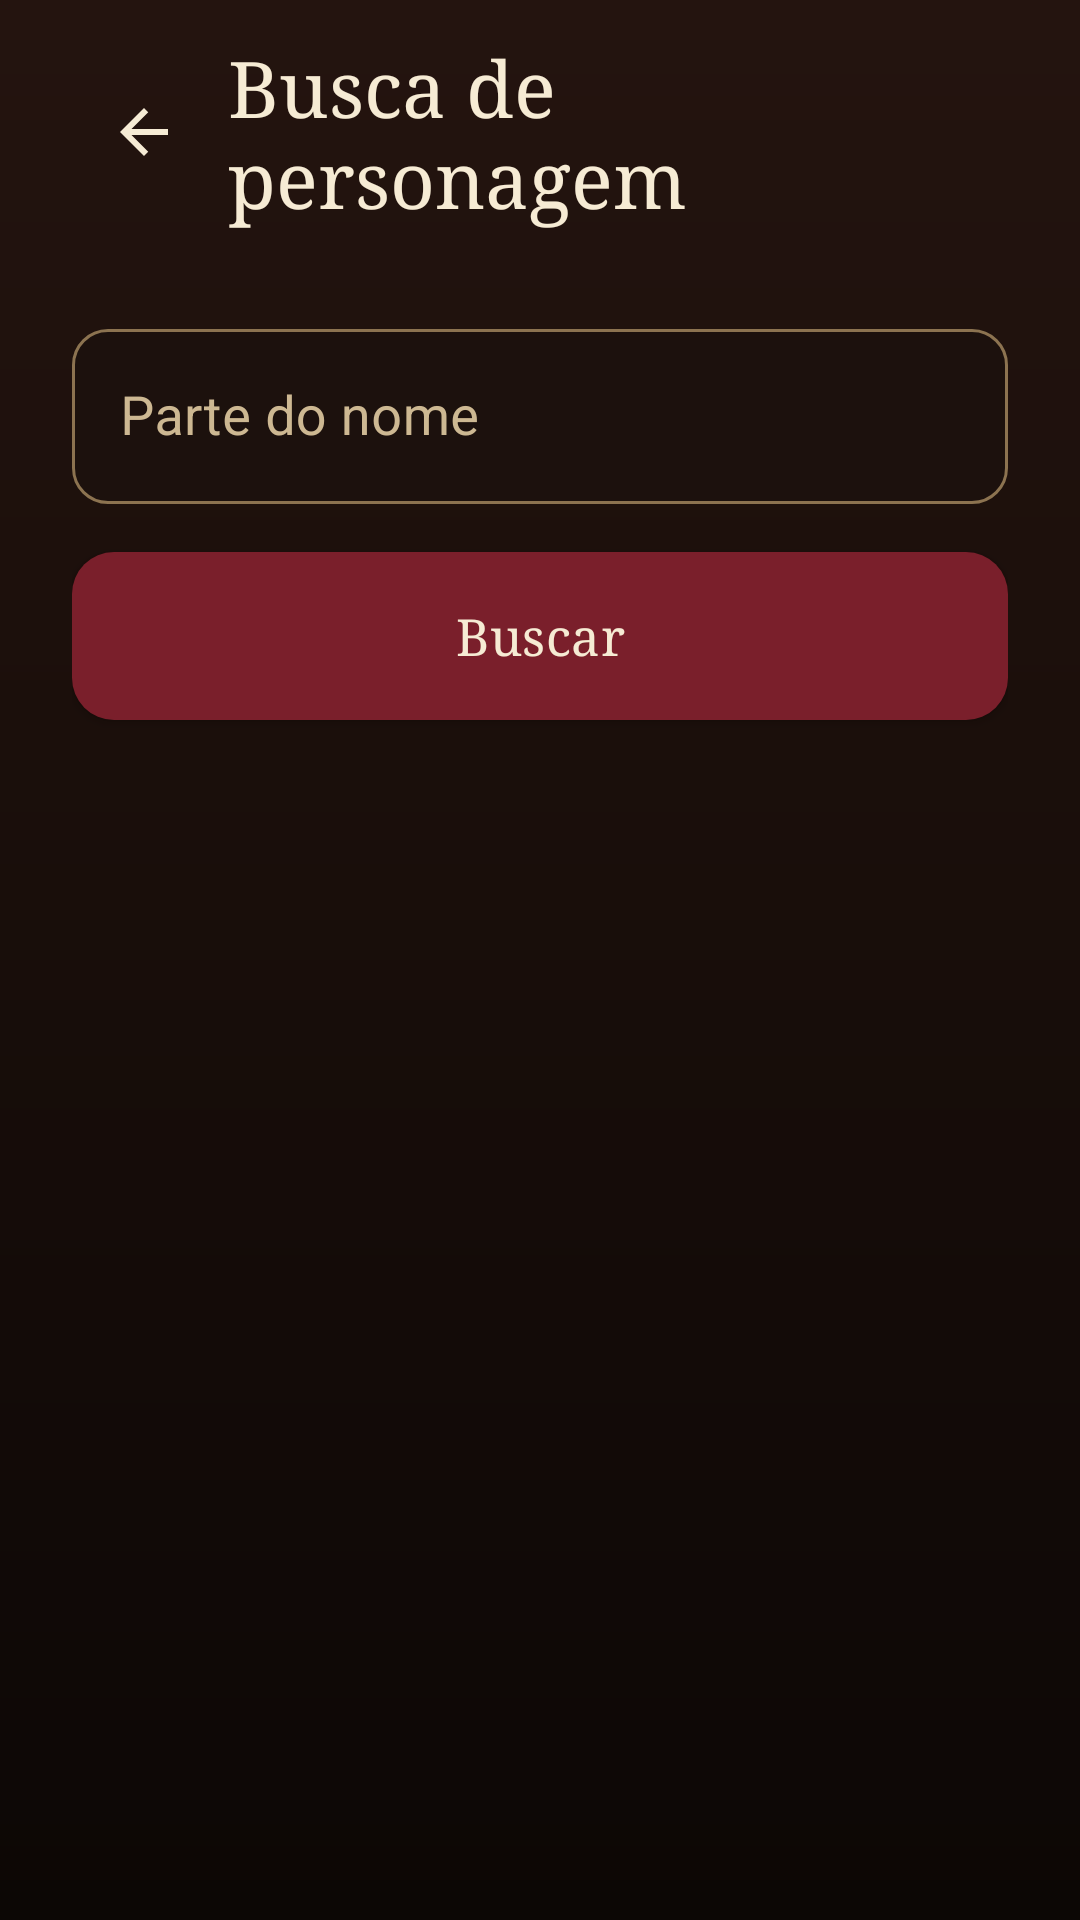

Named icons in this screenshot (1080 × 1920) and their centers, point (x, y):
Voltar: point (144, 132)
